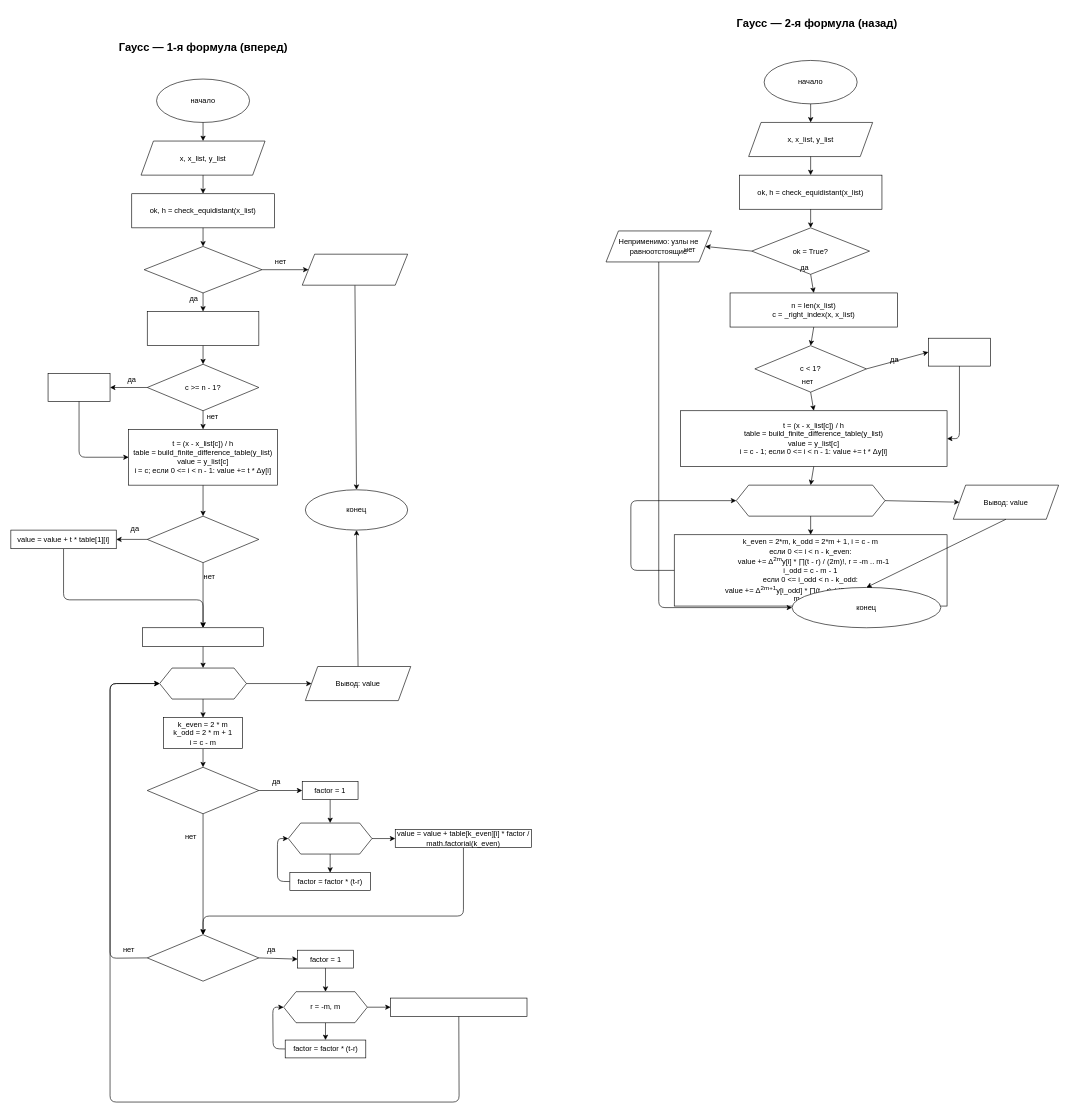
Some shapes in this 1070 by 1118 pixel diagram are drawn without their labels. The centre of each missing label's shape, as x and y in pixels:
"0 <= i && i < n - k_even" goes at point (203, 790).
"0 <= i && i < n - k_odd" goes at point (203, 957).
"0 <= i && i < n-1" goes at point (203, 539).
"c = 1" goes at point (959, 352).
"c = n - 2" goes at point (78, 387).
"error" goes at point (355, 269).
"m=1, max_m" goes at point (202, 683).
"max_m = min(c, (n - 1) // 2, n - 1 - c) для m = 1 .. max_m" goes at point (810, 500).
"max_m = min(c, (n-1) // 2, n - 1 - c)" goes at point (203, 636).
"n = len(x_list) c = _left_index(x, x_list)" goes at point (203, 328).
"ok = True" goes at point (203, 269).
"r = 1 - m, m" goes at point (330, 838).
"value = value + table[k_odd][i] * factor / math.factorial( k_odd )" goes at point (458, 1006).
